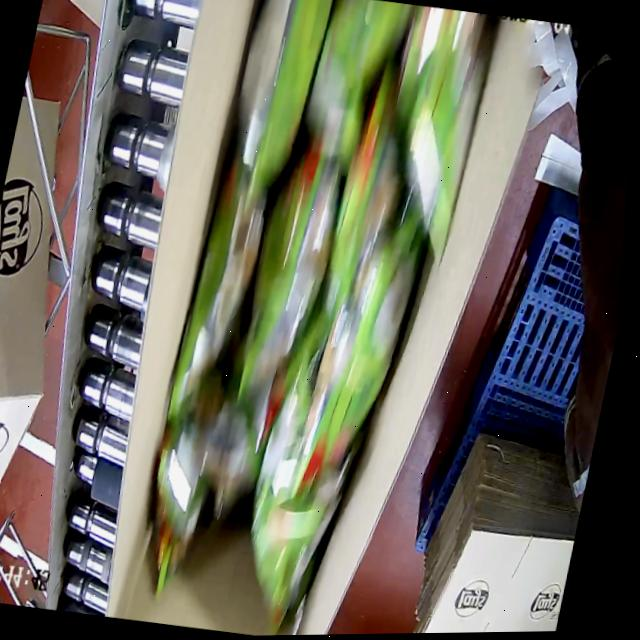YOGURT_HERB: (119, 0, 505, 631)
